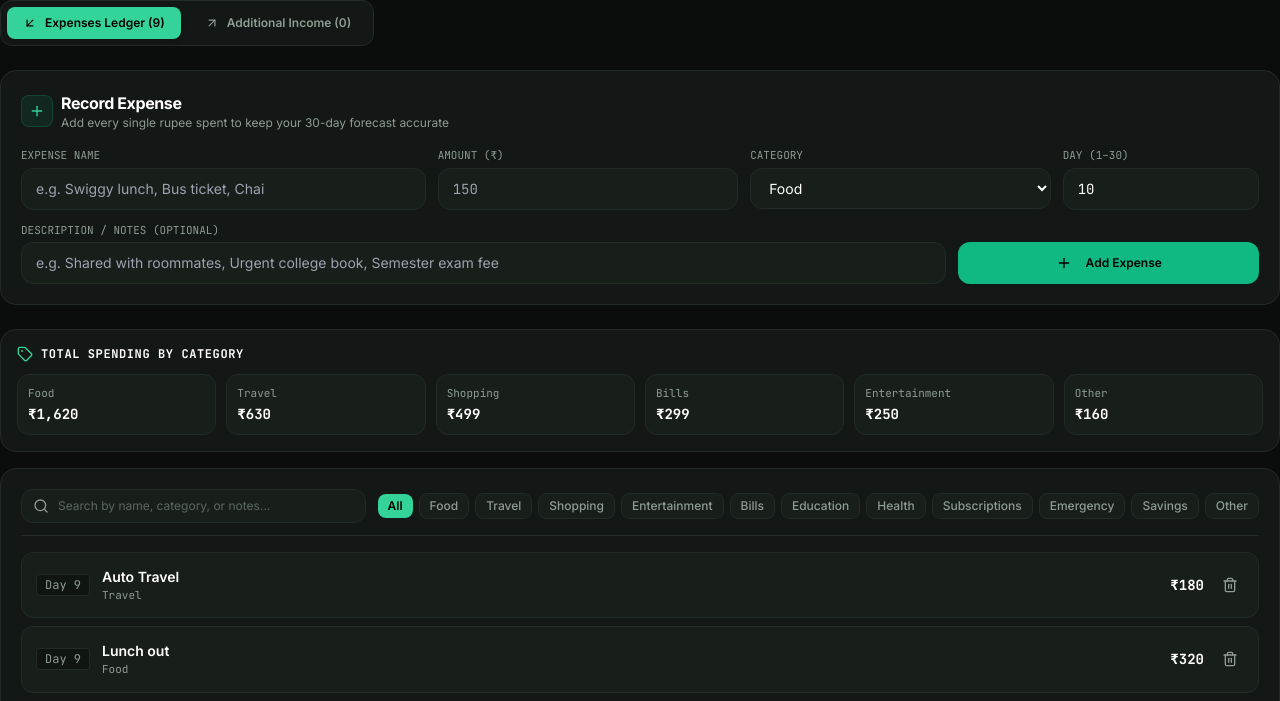
Test: ExpenseTracker Component › rejects submission with empty name
What coordinates should you click on to do the following:
click the button "Add Expense"
I would click on:
 (1109, 263)
Its box is [958, 242, 1259, 284].
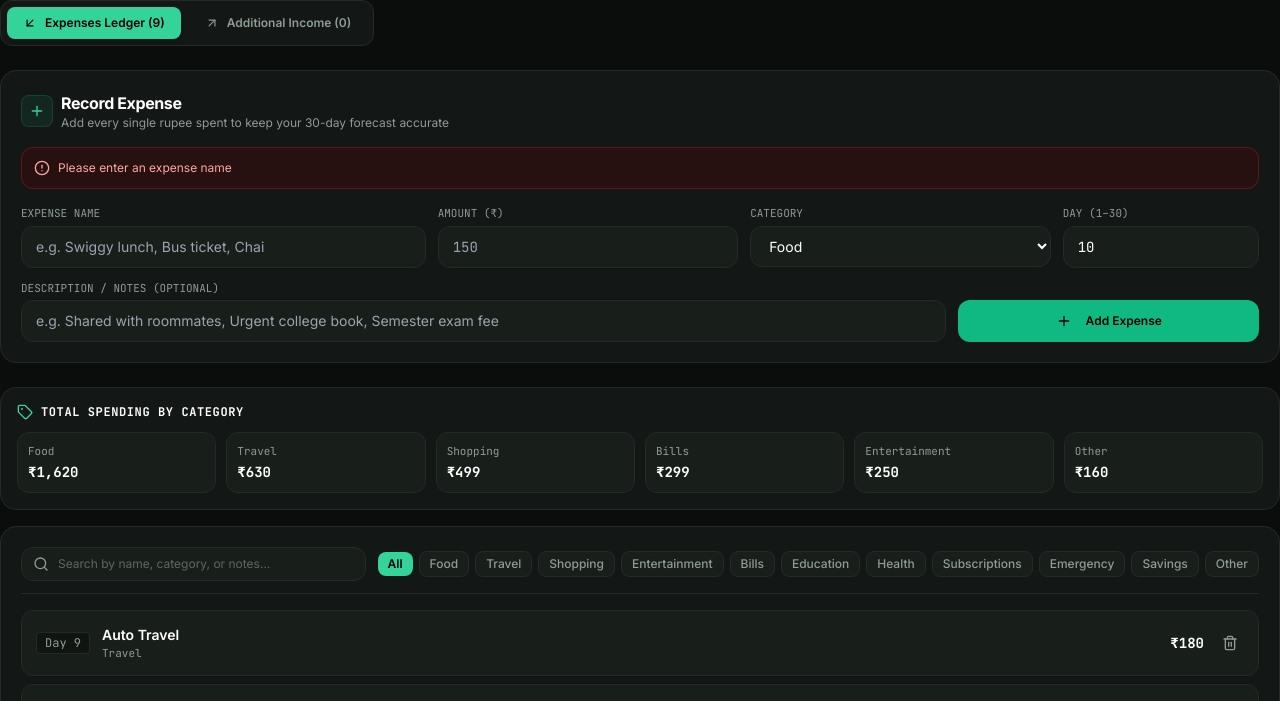
Expected: the text "Please enter an expense name" is shown, [58, 160, 232, 176]
